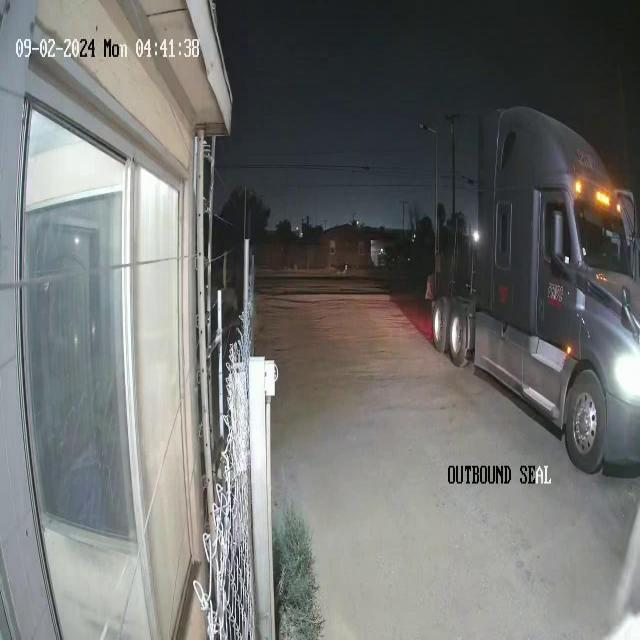TRUCK_IN: (431, 104, 639, 476)
